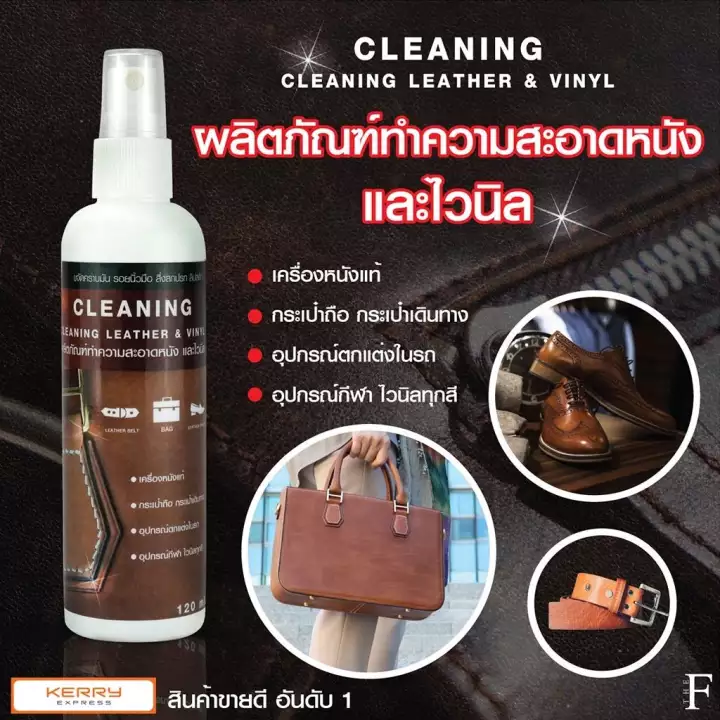Cleaning_solution: (55, 42, 212, 646)
